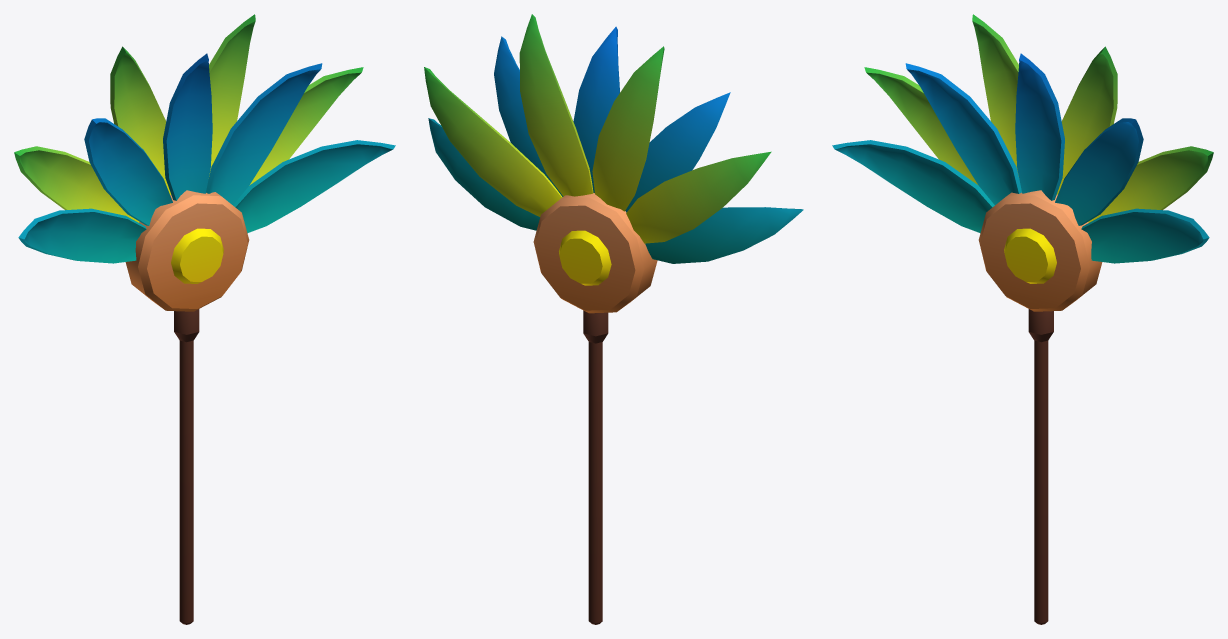
The model's file is Fan_01.glb.
3 renders of one model, left to right at view 1: azimuth 30°, elevation 25°; view 2: azimuth 150°, elevation 25°; view 3: azimuth 330°, elevation 25°, orthographic.
Parts seen in each view (by area): view 1: Fan_01; view 2: Fan_01; view 3: Fan_01.
Part boxes in pixels (x1,y1,x2,y2): Fan_01: (14,14,395,624); Fan_01: (424,14,803,624); Fan_01: (832,14,1213,624).
Bounding box in the file's own units: 2.15 × 3.23 × 0.3651.
1 material, 1 textured.
